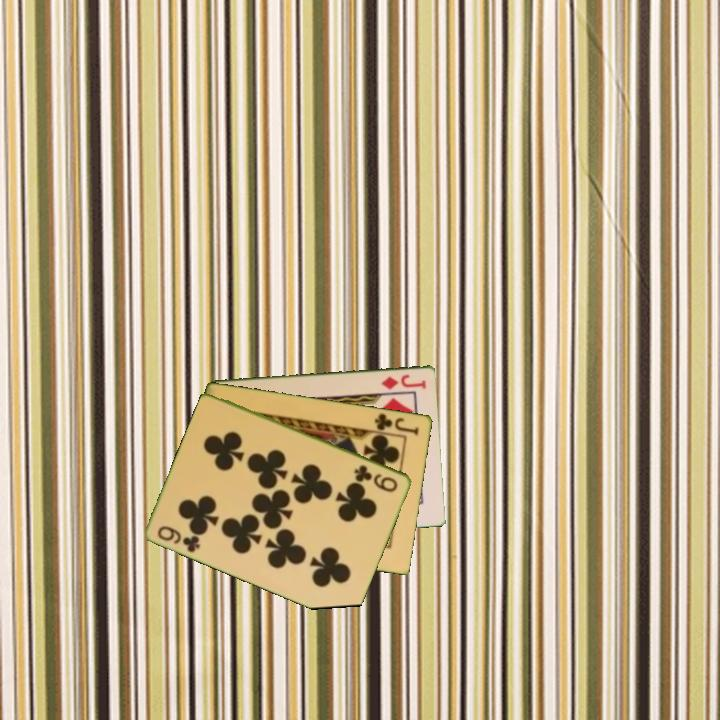9c: (351, 461, 401, 495), (154, 522, 203, 555)
Jc: (371, 409, 422, 438)
Jd: (378, 370, 429, 392)
